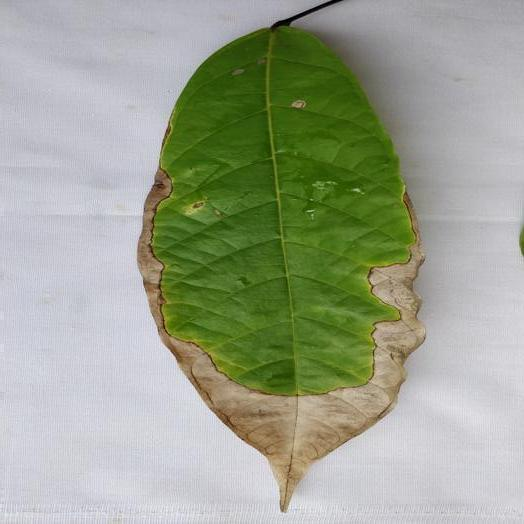Potassium: (139, 19, 423, 509)
